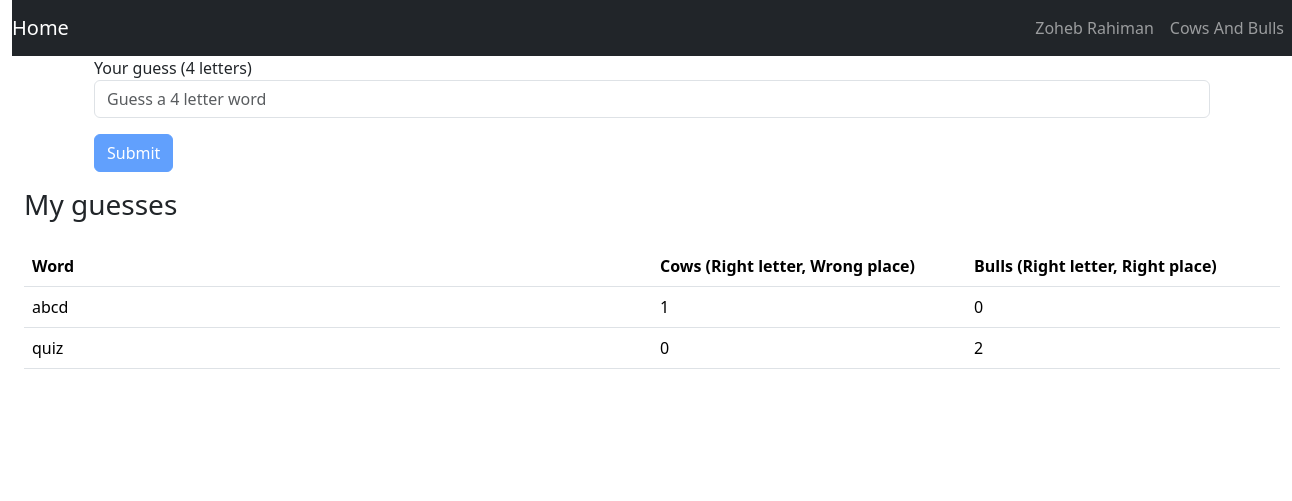
Test: submit › never posts an invalid guess, even if the form is submitted directly
In the field labelled "Your guess (4 letters)": [652, 99] box [94,80,1210,118], type "abc"
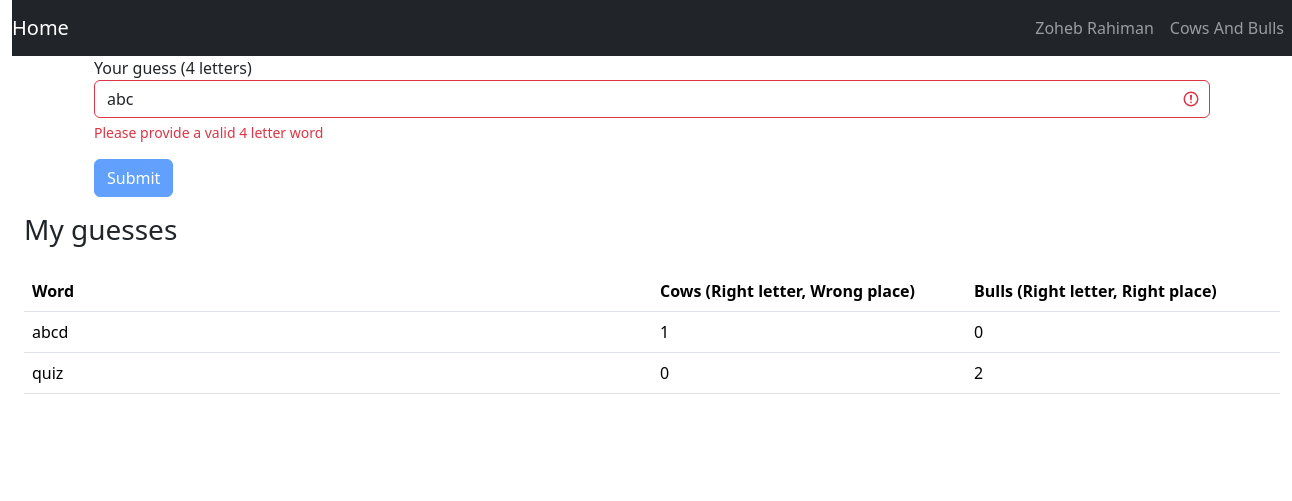
Submit the form labelled "Your guess", box [94,56,1210,197]
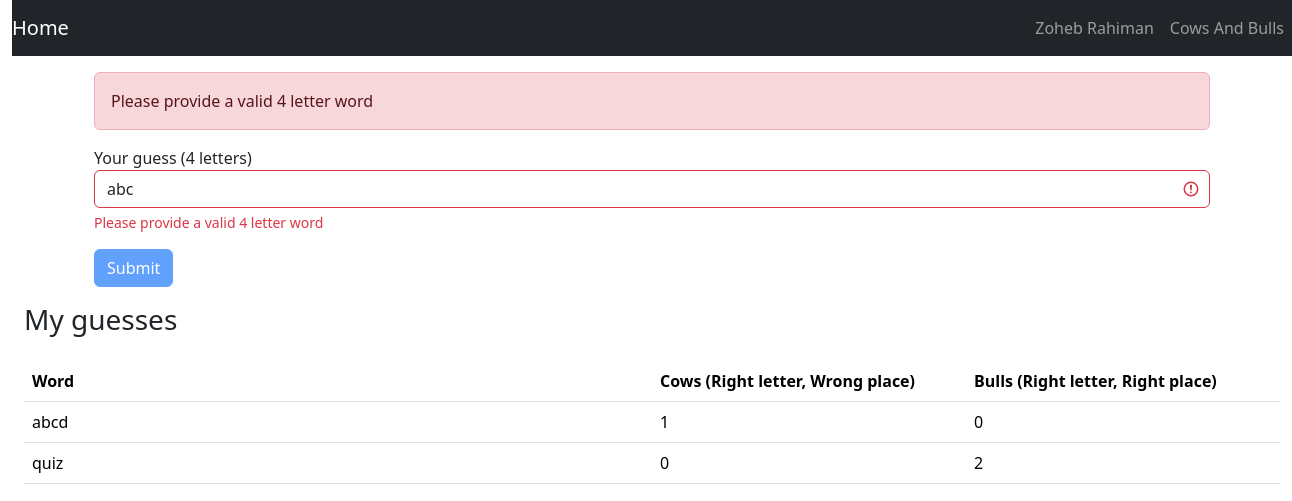
Expected: the message "Please provide a valid 4 letter word" is shown, [94,72,1210,130]
